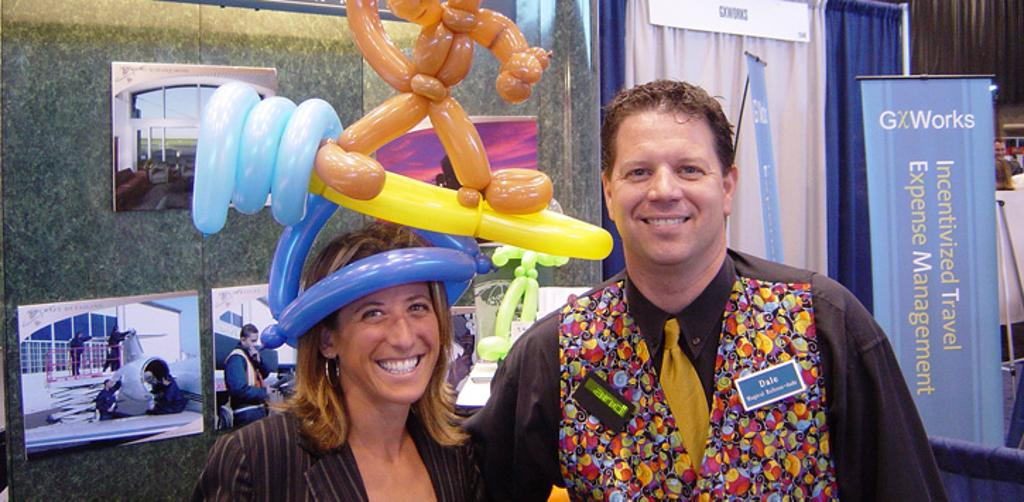face: (611, 111, 721, 264), (337, 266, 441, 402)
